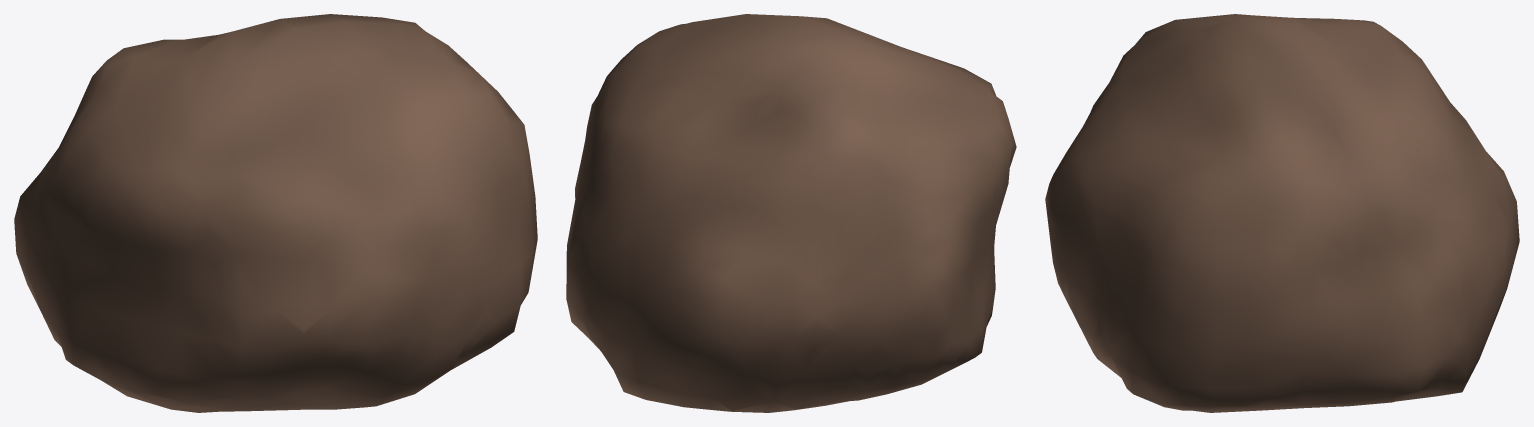
The model's file is Rock.fbx.
3 renders of one model, left to right at view 1: azimuth 30°, elevation 25°; view 2: azimuth 150°, elevation 25°; view 3: azimuth 270°, elevation 25°, orthographic. The views are drawn at different scales.
Parts seen in each view (by area): view 1: Rock; view 2: Rock; view 3: Rock.
Part boxes in pixels (left/top/right/bottom): Rock: left=14, top=14, right=537, bottom=412; Rock: left=566, top=14, right=1016, bottom=412; Rock: left=1045, top=14, right=1519, bottom=412.
Bounding box in the file's own units: 1.09 × 0.9092 × 1.08.
